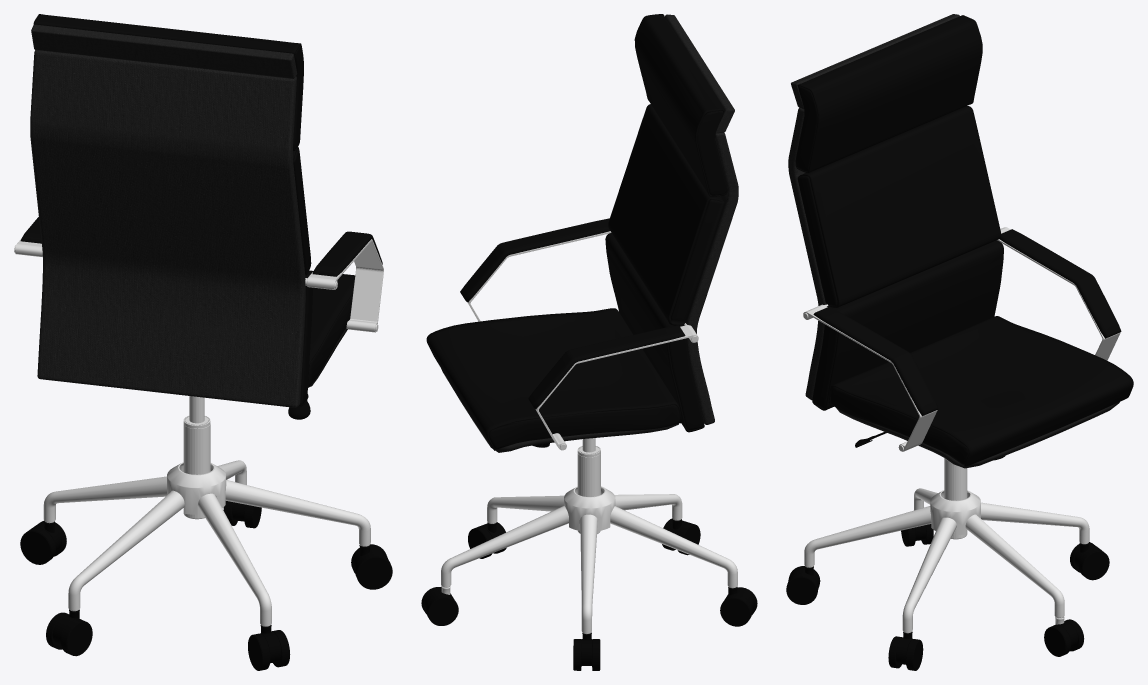
3 renders of one model, left to right at view 1: azimuth 30°, elevation 25°; view 2: azimuth 150°, elevation 25°; view 3: azimuth 270°, elevation 25°, orthographic. The views are drawn at different scales.
Visible parts, largest first — view 1: Geode; view 2: Geode; view 3: Geode.
Boxes of the visible parts, left/top/right/bottom form: Geode: left=14, top=14, right=392, bottom=670; Geode: left=421, top=14, right=757, bottom=670; Geode: left=786, top=14, right=1133, bottom=670.
Size of the model in its own units: 74.98 by 126 by 75.36.
4 materials, 1 textured.
